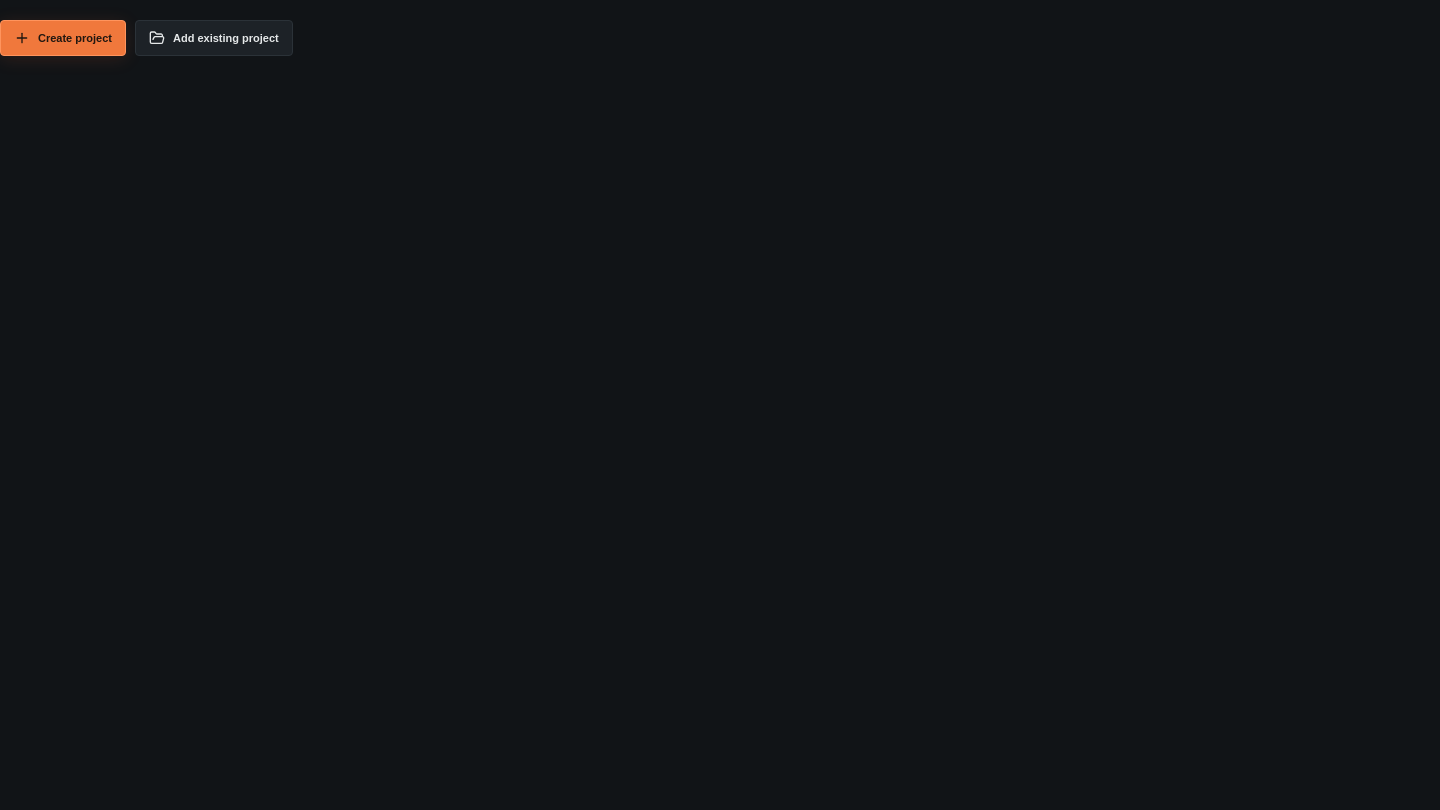
Project workflows › never submits an old suggestion while a newer name is waiting
The width and height of the screenshot is (1440, 810).
Later steps or results of the test are not shown.
Click the button "Create project" at {"x": 63, "y": 38}, box [0, 20, 126, 56]
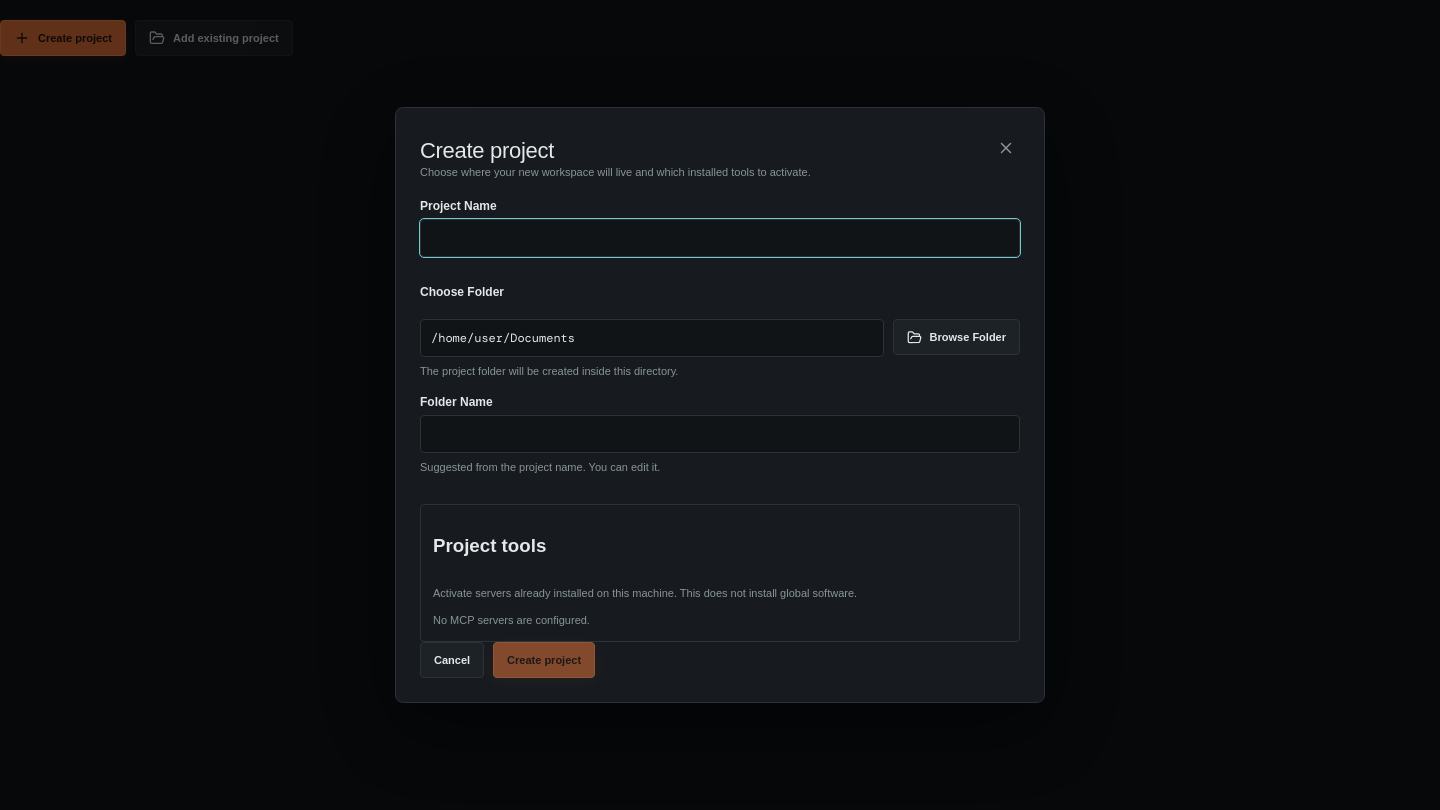
Result: the field labelled "Choose Folder" holds "/home/user/Documents" at [420, 319, 884, 357]
Type "Old" into the field labelled "Project name" at {"x": 720, "y": 238}, box [420, 219, 1020, 257]
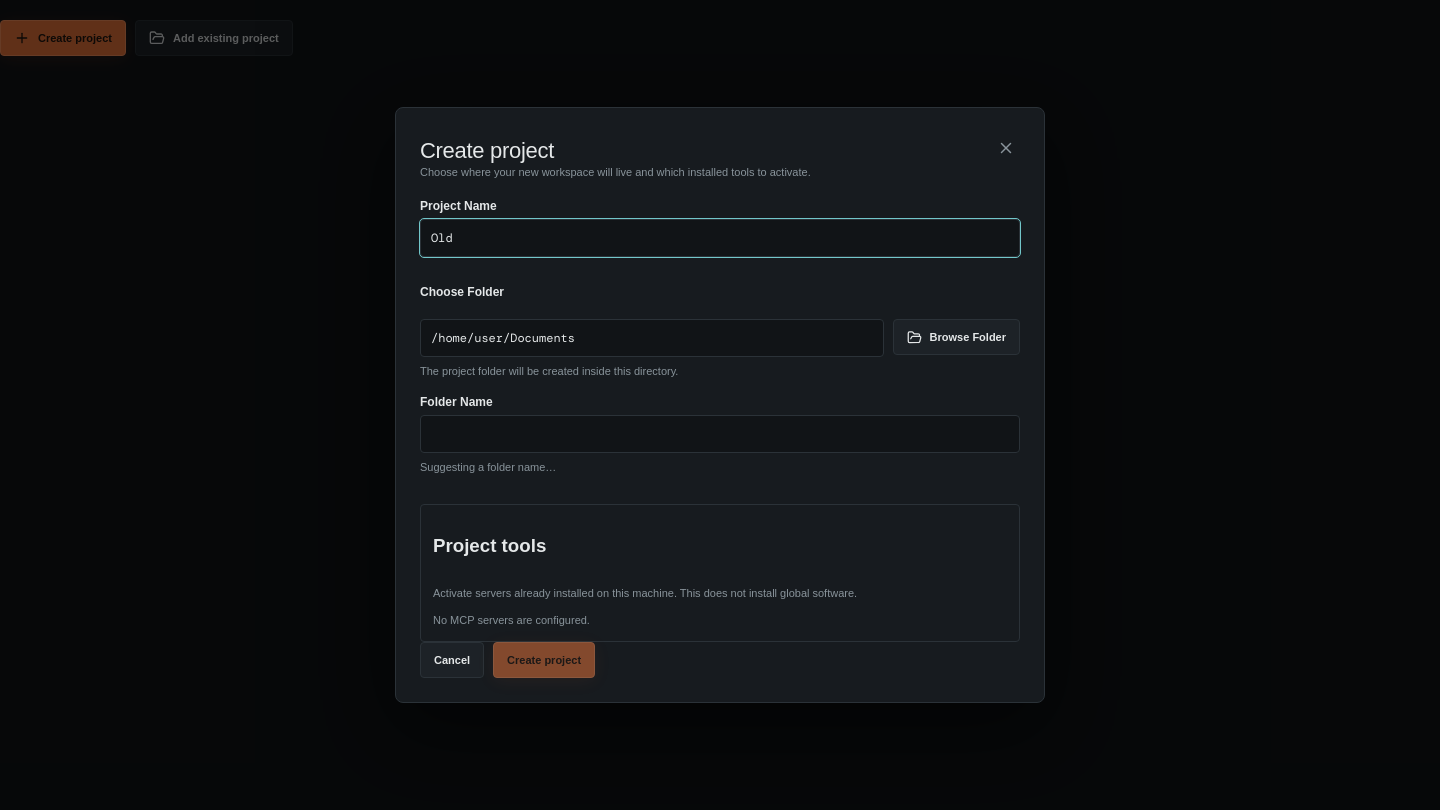
Replace the text in the field labelled "Project name" with "Current" at {"x": 720, "y": 238}, box [420, 219, 1020, 257]
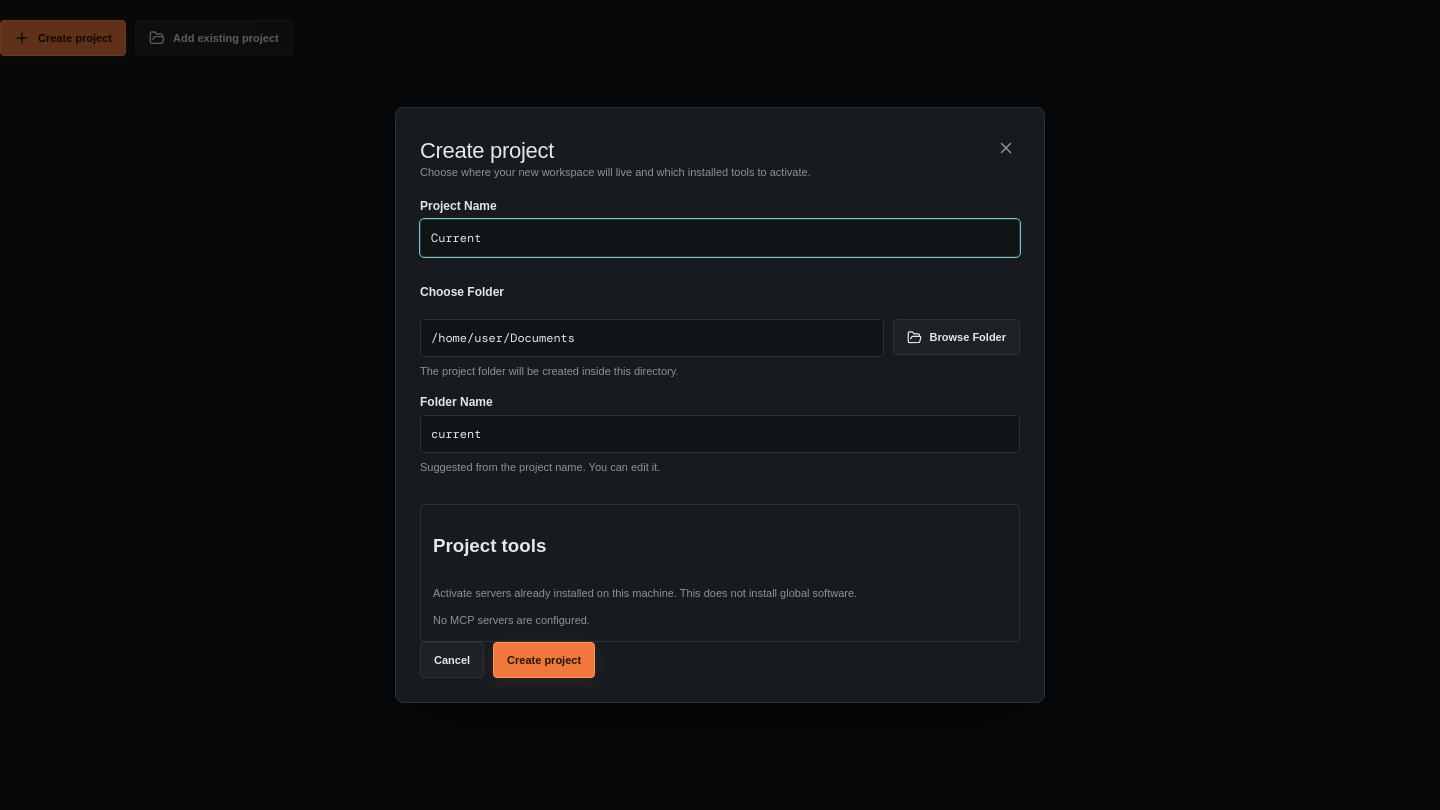
Result: the field labelled "Folder name" holds "current" at [420, 415, 1020, 453]
Result: the button "Create project" is enabled at [493, 642, 595, 678]
